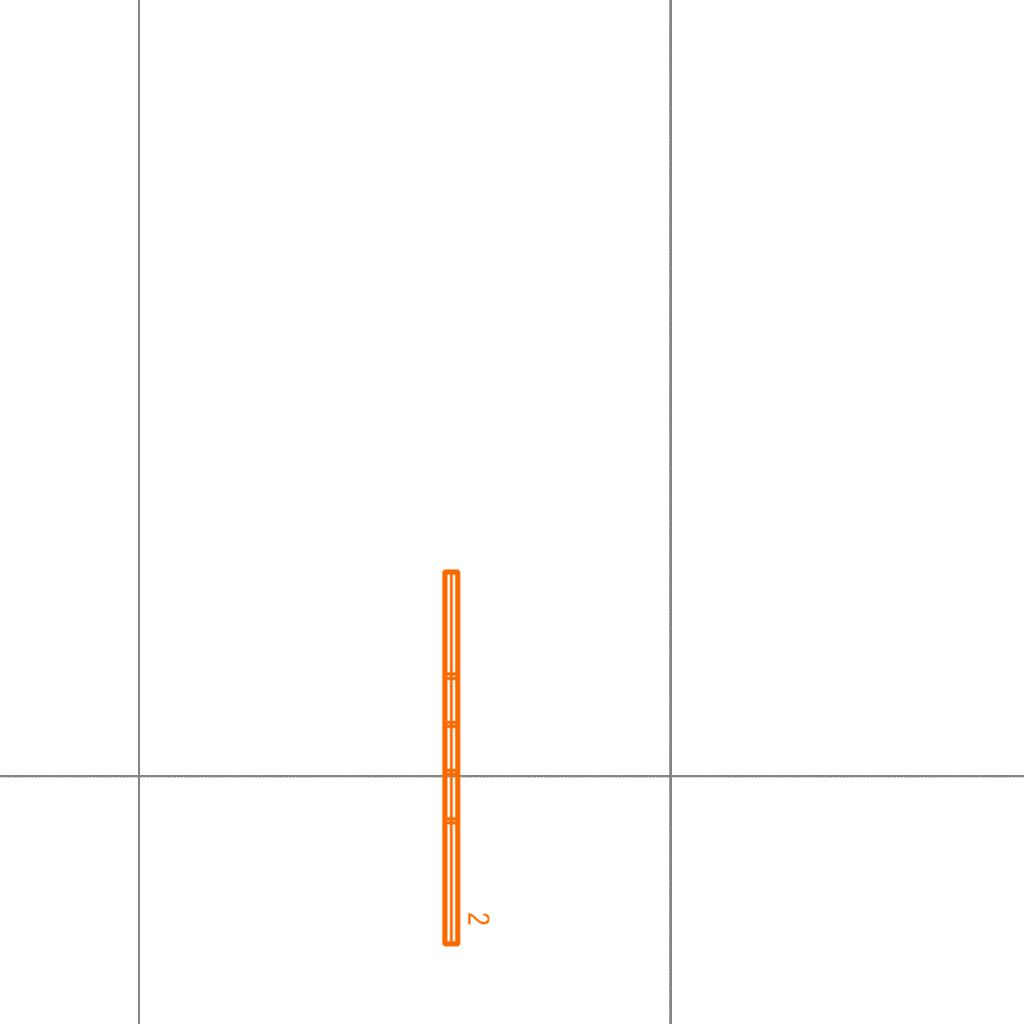Ambulanz_Pendelleuchte_LED: (436, 564, 492, 951)
